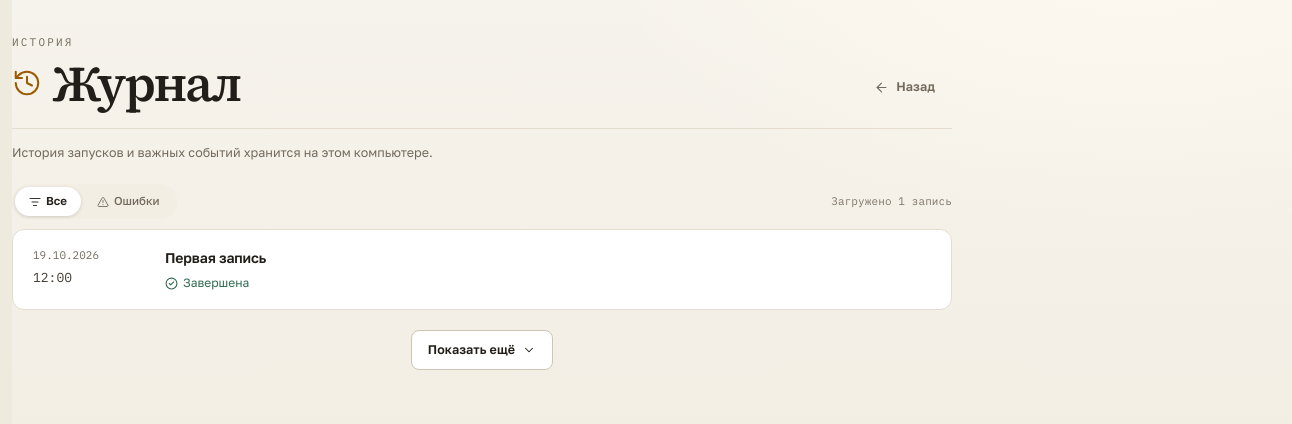
it: journal screen › retries a failed next page without losing the loaded records
Click the button "Показать ещё".
click(482, 350)  # box [411,330,553,370]
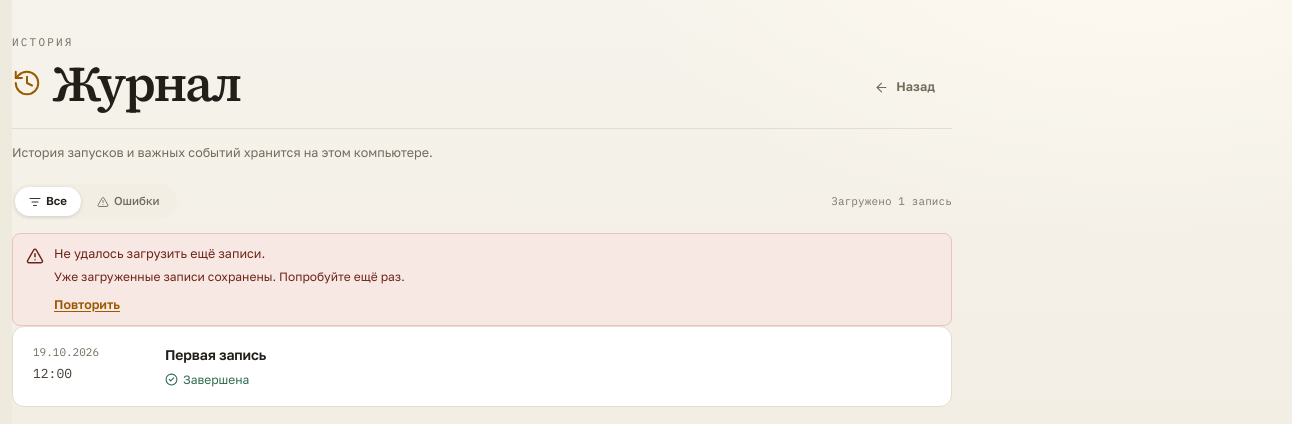
Expected: the text "Первая запись" is shown, [165,346,266,363]
Expected: the message shows "Не удалось загрузить ещё записи", [54,246,265,261]
Click the button "Повторить".
click(87, 305)  # box [54,296,120,314]
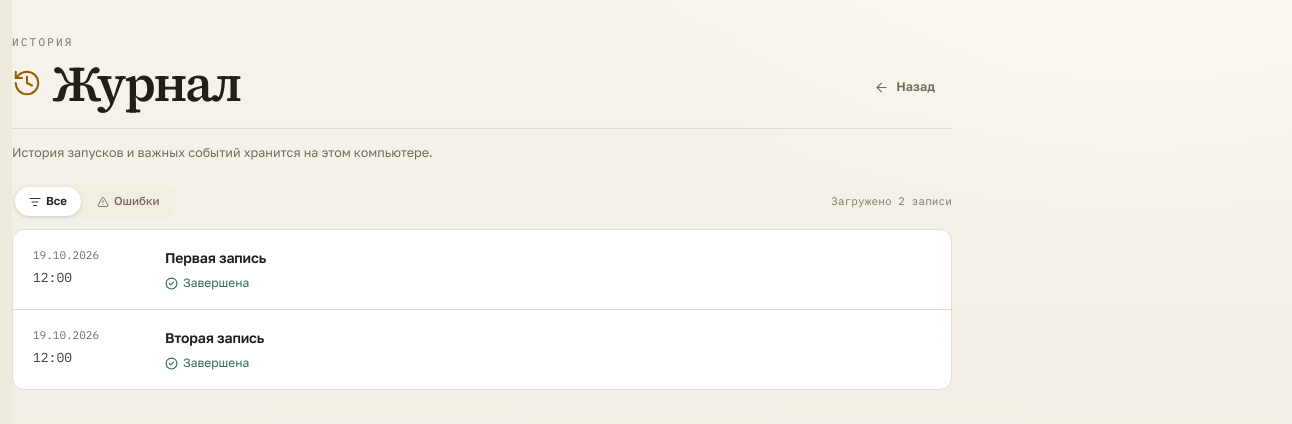
Expected: the text "Первая запись" is shown, [165,249,266,266]
Expected: the text "Вторая запись" is shown, [165,329,264,346]
Expected: the text "Загружено 2 записи" is shown, [831,193,952,210]
